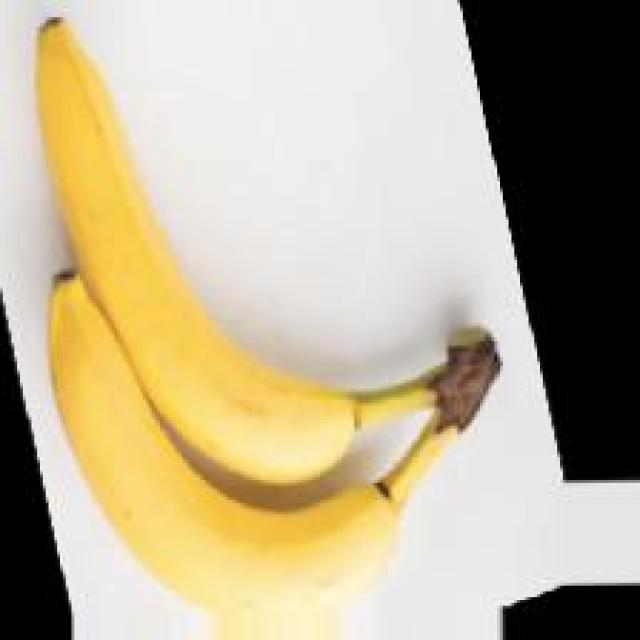banana: (7, 15, 530, 619)
